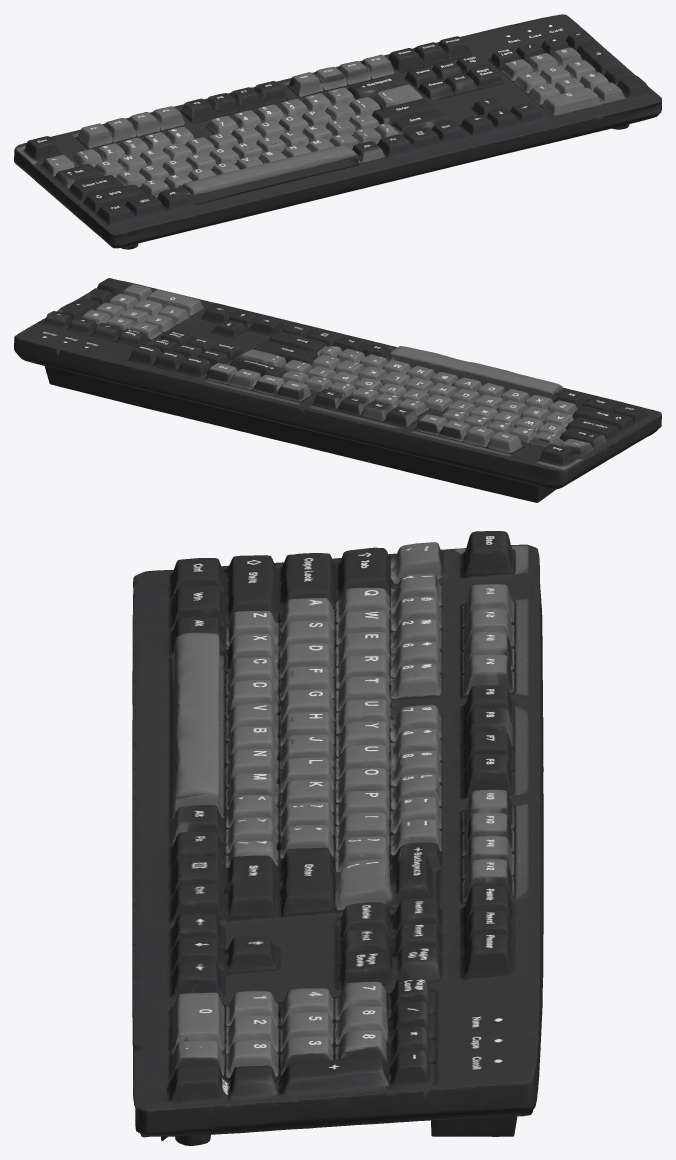
The model's file is keyboard.obj.
The picture shows the model from 3 angles, top to bottom: view 1: azimuth 30°, elevation 25°; view 2: azimuth 150°, elevation 25°; view 3: azimuth 270°, elevation 25°; orthographic projection. The views are drawn at different scales.
Visible parts, largest first — view 1: keyboard; view 2: keyboard; view 3: keyboard.
Boxes of the visible parts, x1,y1,x2,y2 form: keyboard: (14, 14, 661, 249); keyboard: (14, 278, 661, 502); keyboard: (132, 531, 543, 1145).
Size of the model in its own units: 0.3227 by 0.03 by 0.104.
Materials: 1 (1 with a texture image).
